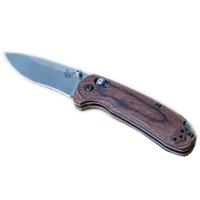knife: (3, 48, 195, 160)
